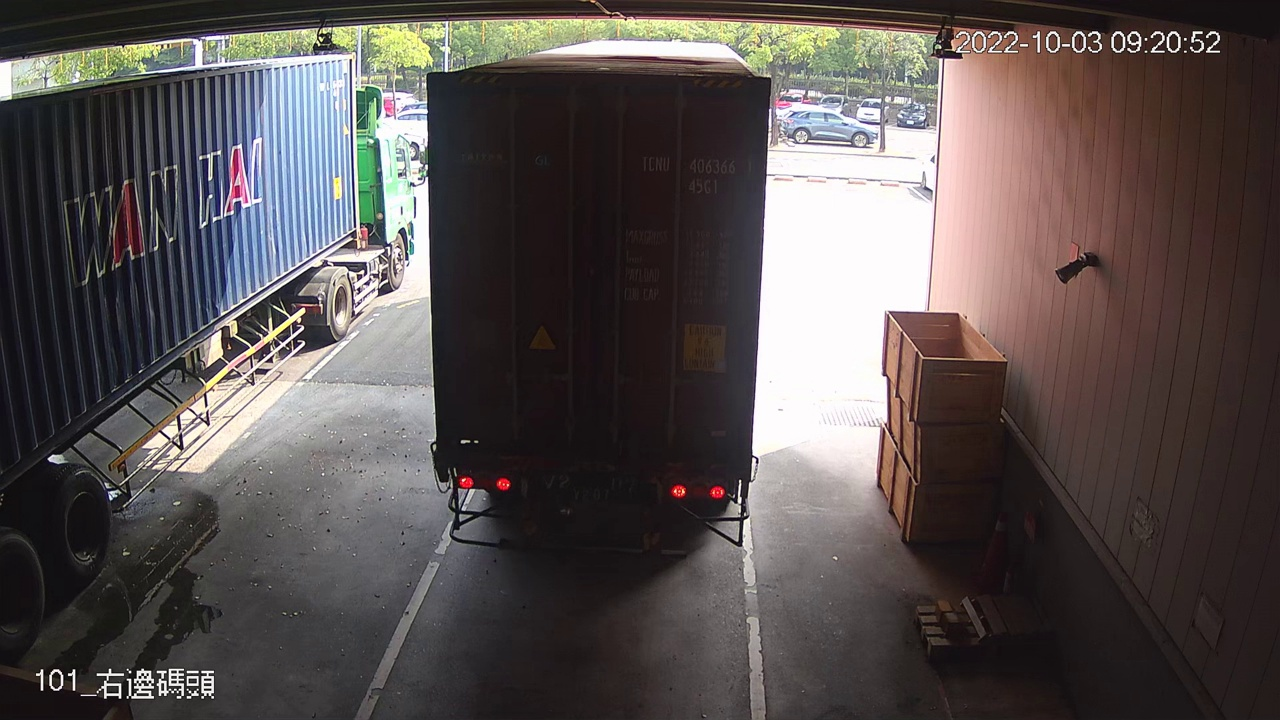container: (637, 149, 761, 197)
